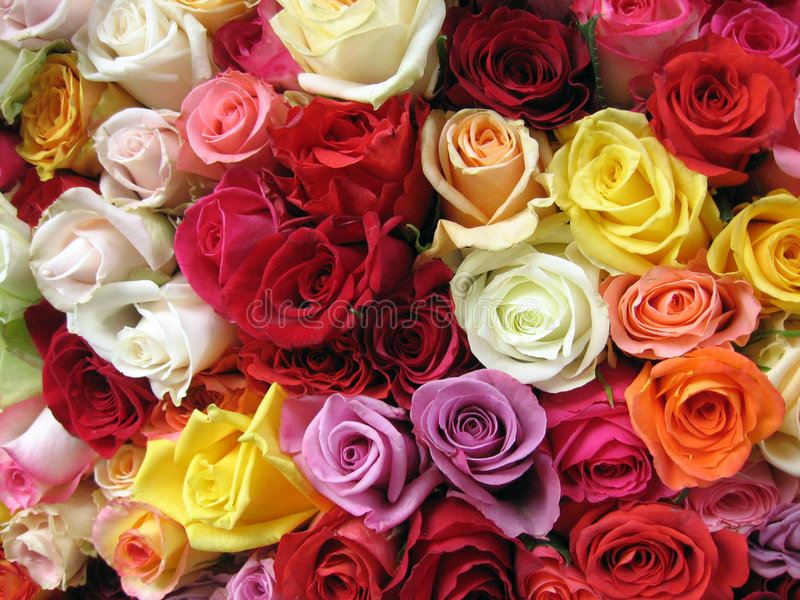RedRose: (645, 34, 796, 190), (568, 494, 782, 600), (450, 4, 598, 127), (264, 214, 396, 344), (260, 515, 399, 600)
